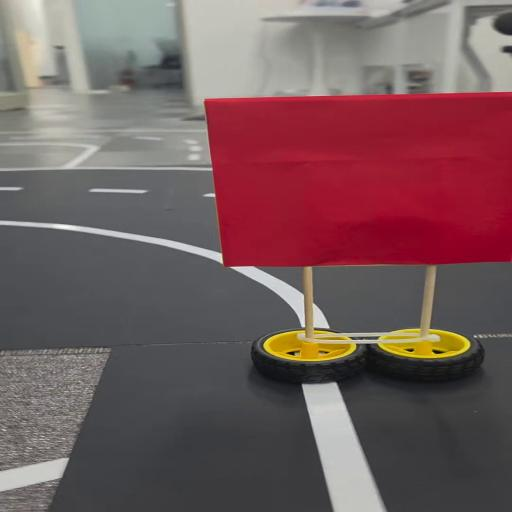Sign_A: (194, 92, 512, 380)
